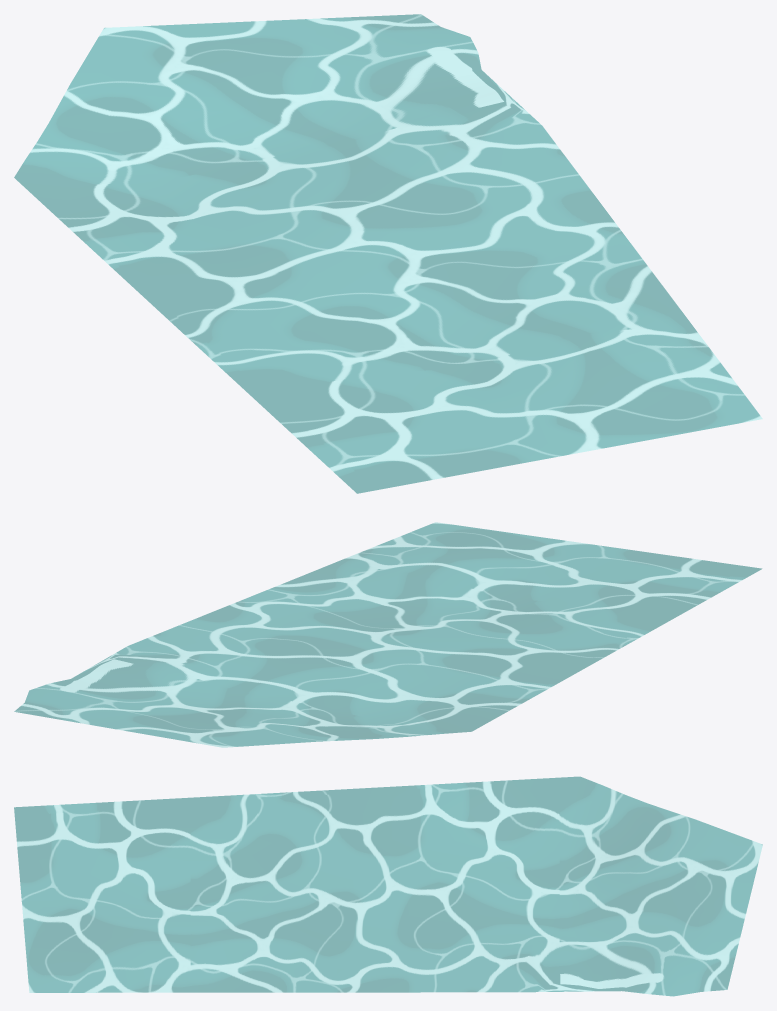
File: pond.glb
The picture shows the model from 3 angles, top to bottom: view 1: azimuth 30°, elevation 25°; view 2: azimuth 150°, elevation 25°; view 3: azimuth 270°, elevation 25°; orthographic projection. The views are drawn at different scales.
Parts seen in each view (by area): view 1: flor.013; view 2: flor.013; view 3: flor.013.
Boxes of the visible parts, x1,y1,x2,y2 form: flor.013: [14, 14, 762, 493]; flor.013: [14, 522, 761, 747]; flor.013: [14, 776, 762, 996].
Size of the model in its own units: 5.89 by 1.01 by 9.13.
1 material, 1 textured.
